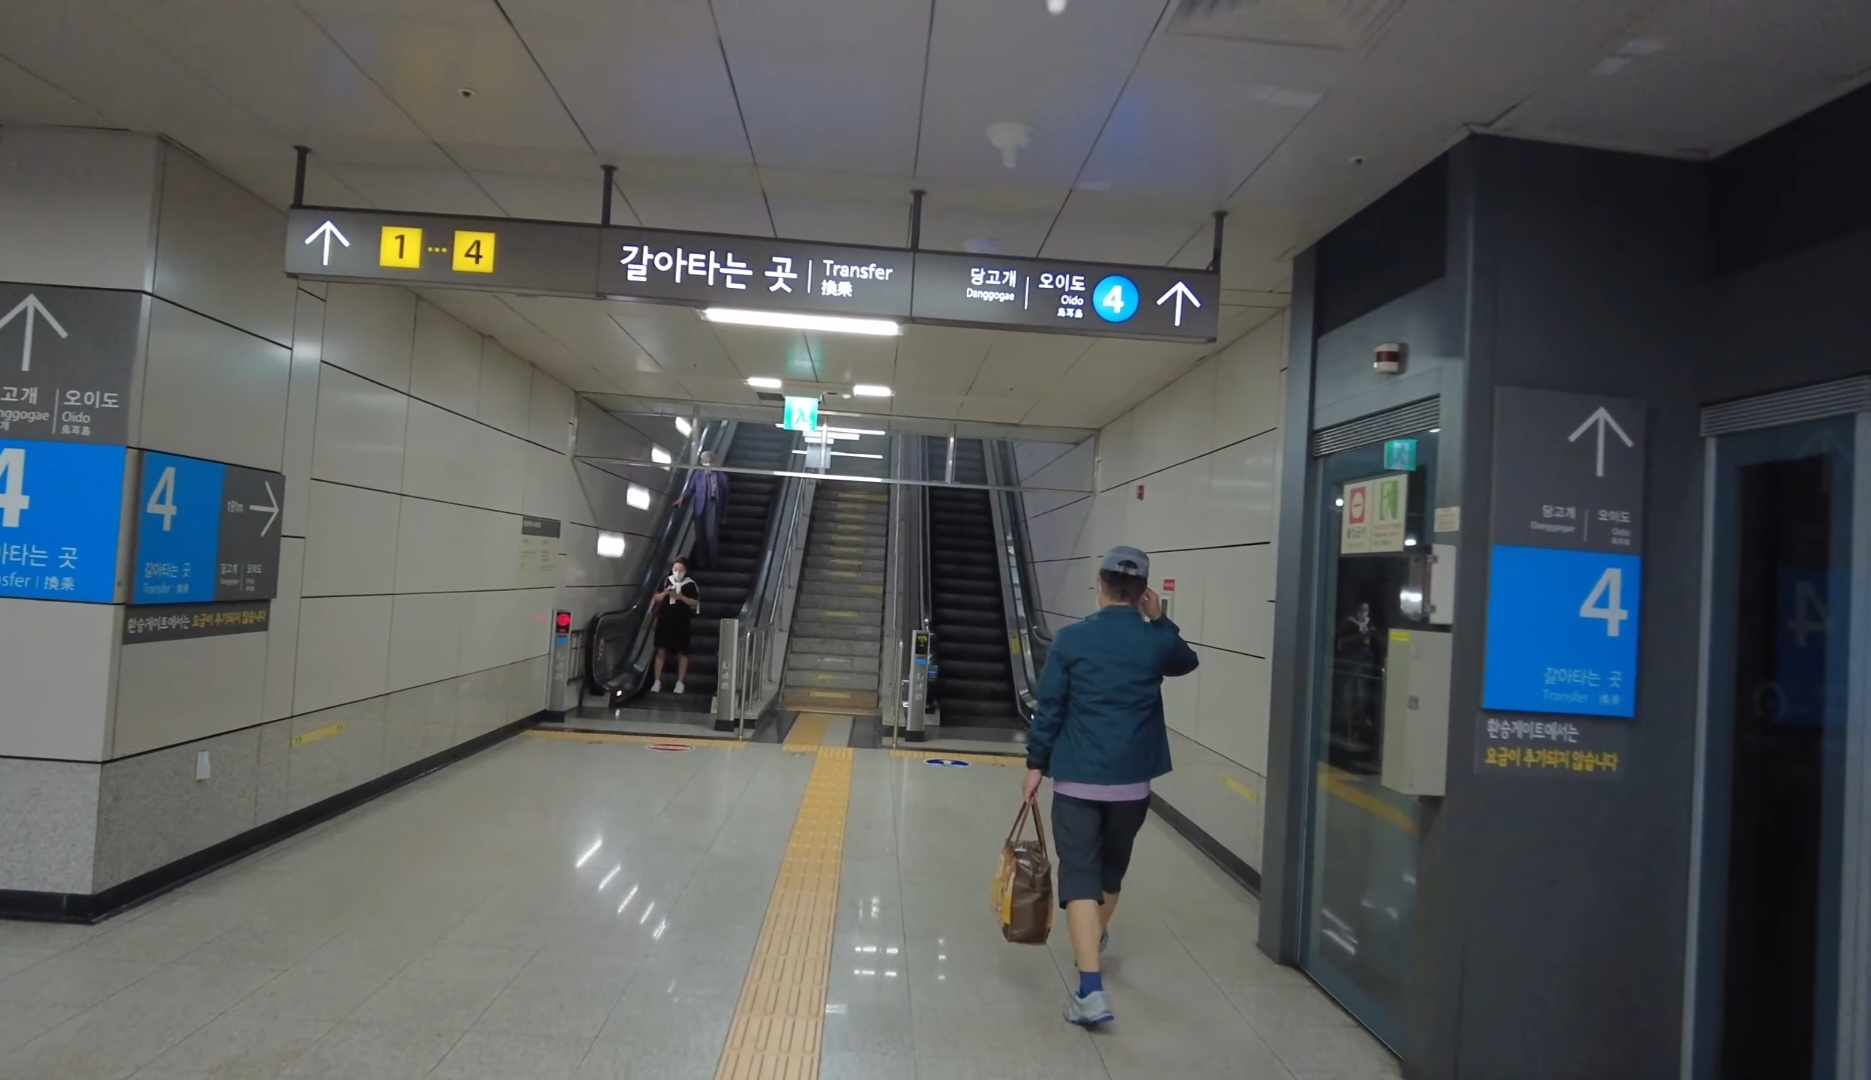signBoard: (278, 189, 1227, 351)
